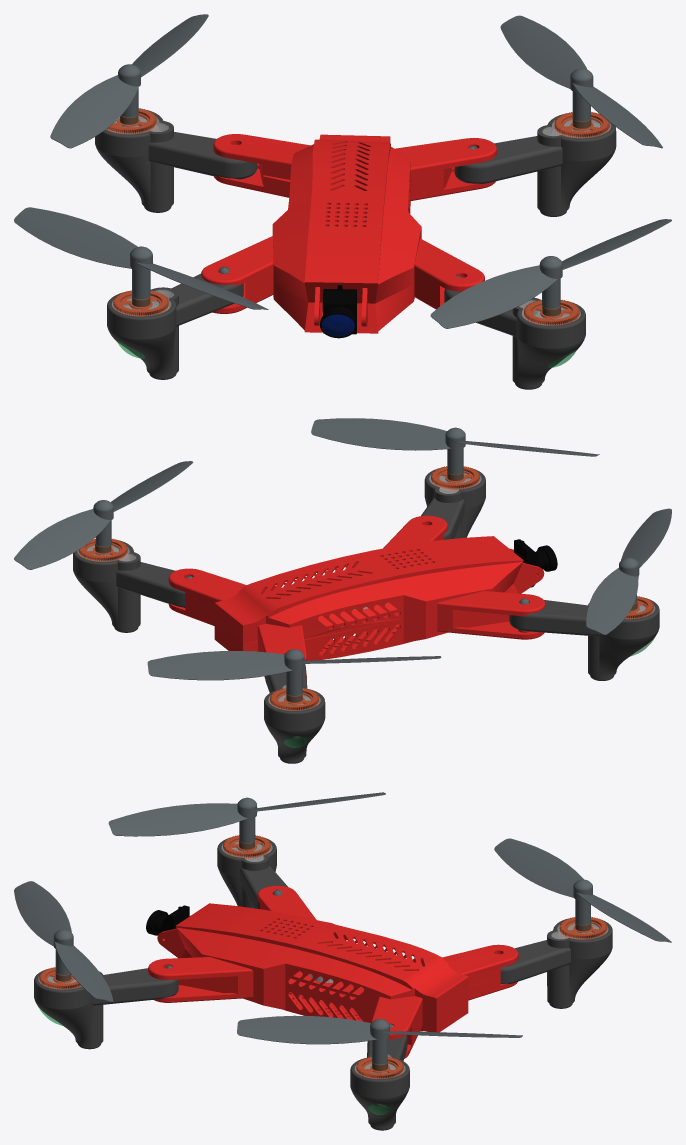
The model's file is Drone2.glb.
3 renders of one model, top to bottom at view 1: azimuth 30°, elevation 25°; view 2: azimuth 150°, elevation 25°; view 3: azimuth 270°, elevation 25°, orthographic. The views are drawn at different scales.
Visible parts, largest first — view 1: Main frame, Leg.002, Leg.003, Main frame_MIR, Impellar Blade.003, Impellar Blade.001, Impellar Blade, Leg, Impellar Blade.002, Leg.001, Beater disc, Arm gear.002 (+3 smaller); view 2: Main frame, Main frame_MIR, Leg.002, Leg, Impellar Blade.002, Impellar Blade.001, Impellar Blade, Impellar Blade.003, Leg.003, Leg.001, Beater disc, Arm gear.003 (+2 smaller); view 3: Main frame, Main frame_MIR, Leg.001, Leg.003, Impellar Blade.003, Impellar Blade, Impellar Blade.002, Impellar Blade.001, Leg.002, Leg, Beater disc, Arm gear.002 (+2 smaller).
Part boxes in pixels (<box>): Main frame: <box>201,134,496,321</box>; Leg.002: <box>454,113,616,216</box>; Leg.003: <box>95,109,257,212</box>; Main frame_MIR: <box>212,163,495,333</box>; Impellar Blade.003: <box>14,207,268,309</box>; Impellar Blade.001: <box>430,219,671,328</box>; Impellar Blade: <box>500,15,662,148</box>; Leg: <box>107,273,243,379</box>; Impellar Blade.002: <box>50,14,208,148</box>; Leg.001: <box>444,288,585,389</box>; Beater disc: <box>320,285,356,338</box>; Arm gear.002: <box>113,290,168,316</box>; Main frame: <box>168,515,545,664</box>; Main frame_MIR: <box>168,573,544,679</box>; Leg.002: <box>73,540,185,632</box>; Leg: <box>509,597,659,680</box>; Impellar Blade.002: <box>147,649,441,695</box>; Impellar Blade.001: <box>311,418,599,474</box>; Impellar Blade: <box>14,461,193,569</box>; Impellar Blade.003: <box>586,508,671,635</box>; Leg.003: <box>264,665,325,763</box>; Leg.001: <box>421,468,485,539</box>; Beater disc: <box>514,539,557,587</box>; Arm gear.003: <box>431,466,479,491</box>; Main frame: <box>148,885,518,1039</box>; Main frame_MIR: <box>154,938,517,1058</box>; Leg.001: <box>34,968,178,1049</box>; Leg.003: <box>500,918,612,1008</box>; Impellar Blade.003: <box>108,792,385,843</box>; Impellar Blade: <box>237,1015,522,1064</box>; Impellar Blade.002: <box>494,838,671,942</box>; Impellar Blade.001: <box>14,881,113,1001</box>; Leg.002: <box>350,1035,409,1130</box>; Leg: <box>217,837,287,908</box>; Beater disc: <box>146,905,189,935</box>; Arm gear.002: <box>223,835,270,859</box>.
Bounding box in the file's own units: 0.2991 × 0.0681 × 0.3314.
